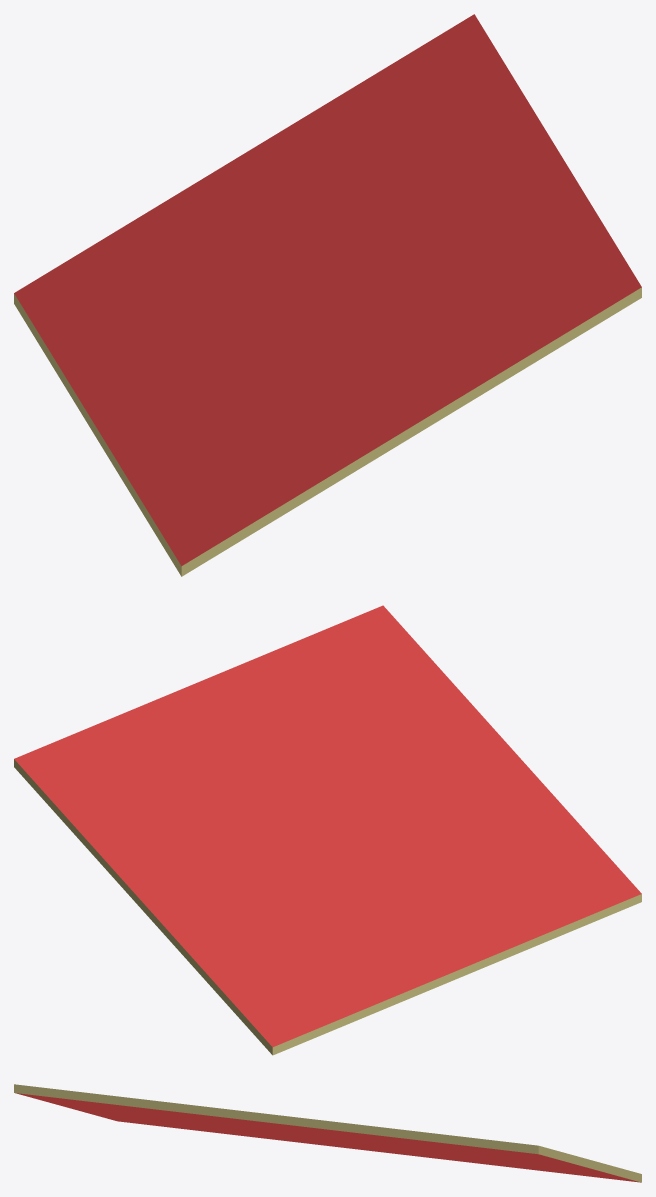
The picture shows the model from 3 angles, top to bottom: view 1: azimuth 30°, elevation 25°; view 2: azimuth 150°, elevation 25°; view 3: azimuth 270°, elevation 25°; orthographic projection. The views are drawn at different scales.
Bounding box in the file's own units: 5.45 × 6.6 × 2.26.
